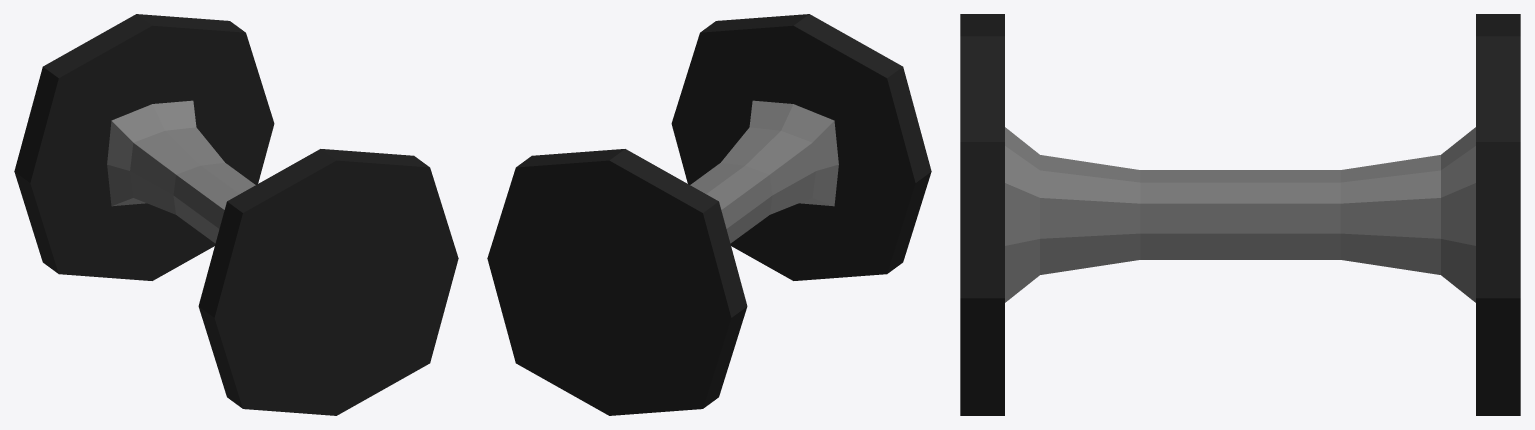
File: Bedroom_Prop_Weight.fbx
The picture shows the model from 3 angles, left to right: view 1: azimuth 30°, elevation 25°; view 2: azimuth 150°, elevation 25°; view 3: azimuth 270°, elevation 25°; orthographic projection. The views are drawn at different scales.
Visible parts, largest first — view 1: Cube.001; view 2: Cube.001; view 3: Cube.001.
Boxes of the visible parts, left/top/right/bottom form: Cube.001: left=14, top=14, right=458, bottom=415; Cube.001: left=487, top=14, right=931, bottom=415; Cube.001: left=960, top=14, right=1520, bottom=415.
Bounding box in the file's own units: 77.27 × 77.27 × 110.
